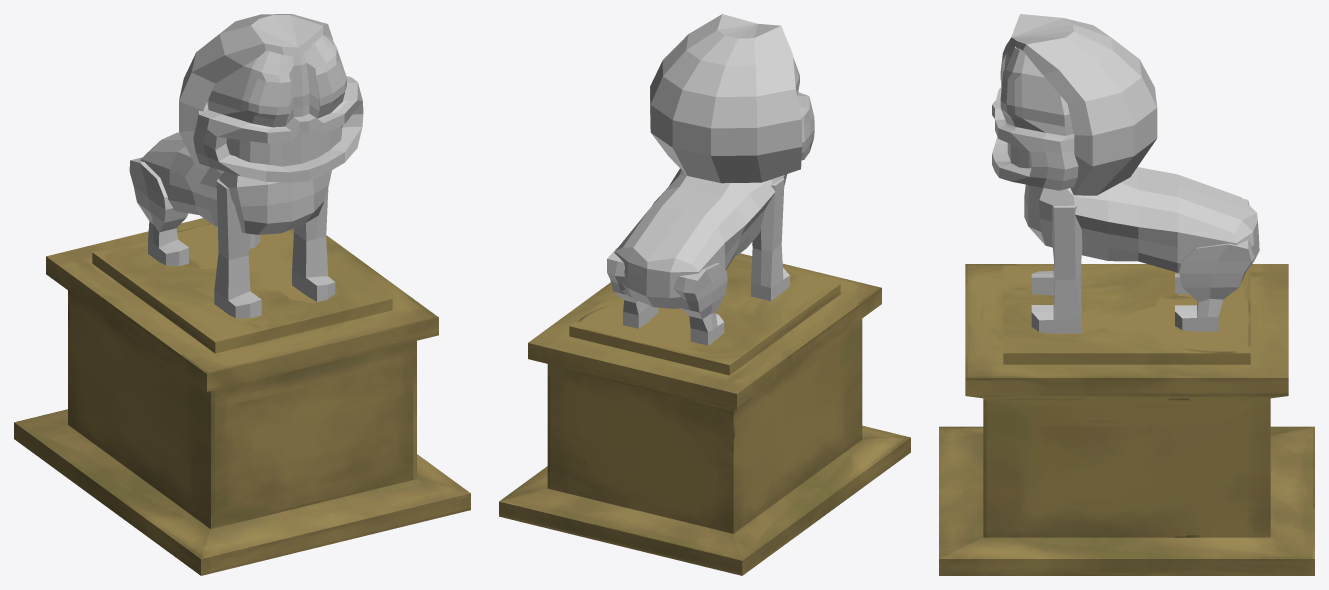
The model's file is f_guard_scp.fbx.
3 renders of one model, left to right at view 1: azimuth 30°, elevation 25°; view 2: azimuth 150°, elevation 25°; view 3: azimuth 270°, elevation 25°, orthographic. The views are drawn at different scales.
Visible parts, largest first — view 1: Cube.002; view 2: Cube.002; view 3: Cube.002.
Part boxes in pixels (<box>): Cube.002: <box>14,14,470,575</box>; Cube.002: <box>499,14,910,575</box>; Cube.002: <box>939,14,1314,575</box>.
Bounding box in the file's own units: 517 × 875 × 621.
